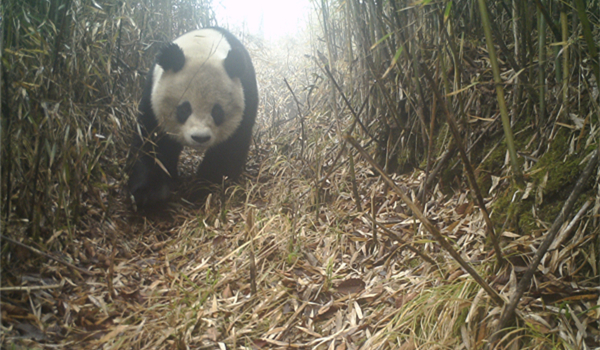panda: (128, 27, 264, 223)
